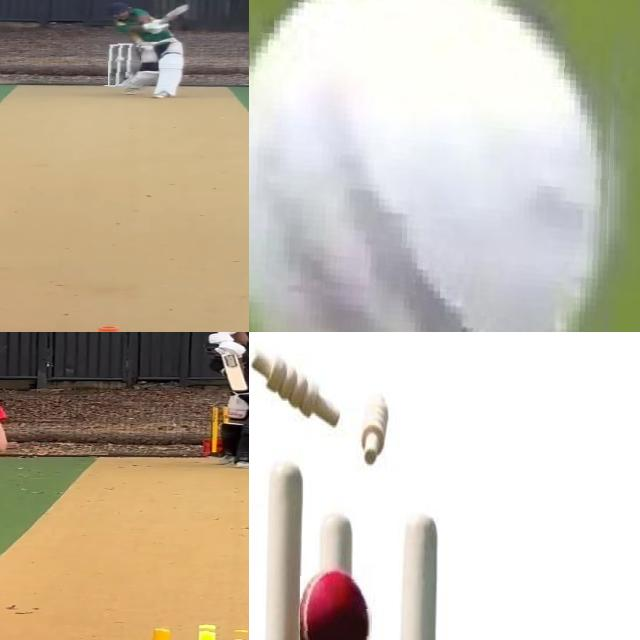Cricket ball: (249, 0, 616, 332), (300, 562, 372, 640), (114, 55, 129, 64)
Stumps: (108, 42, 135, 88)
